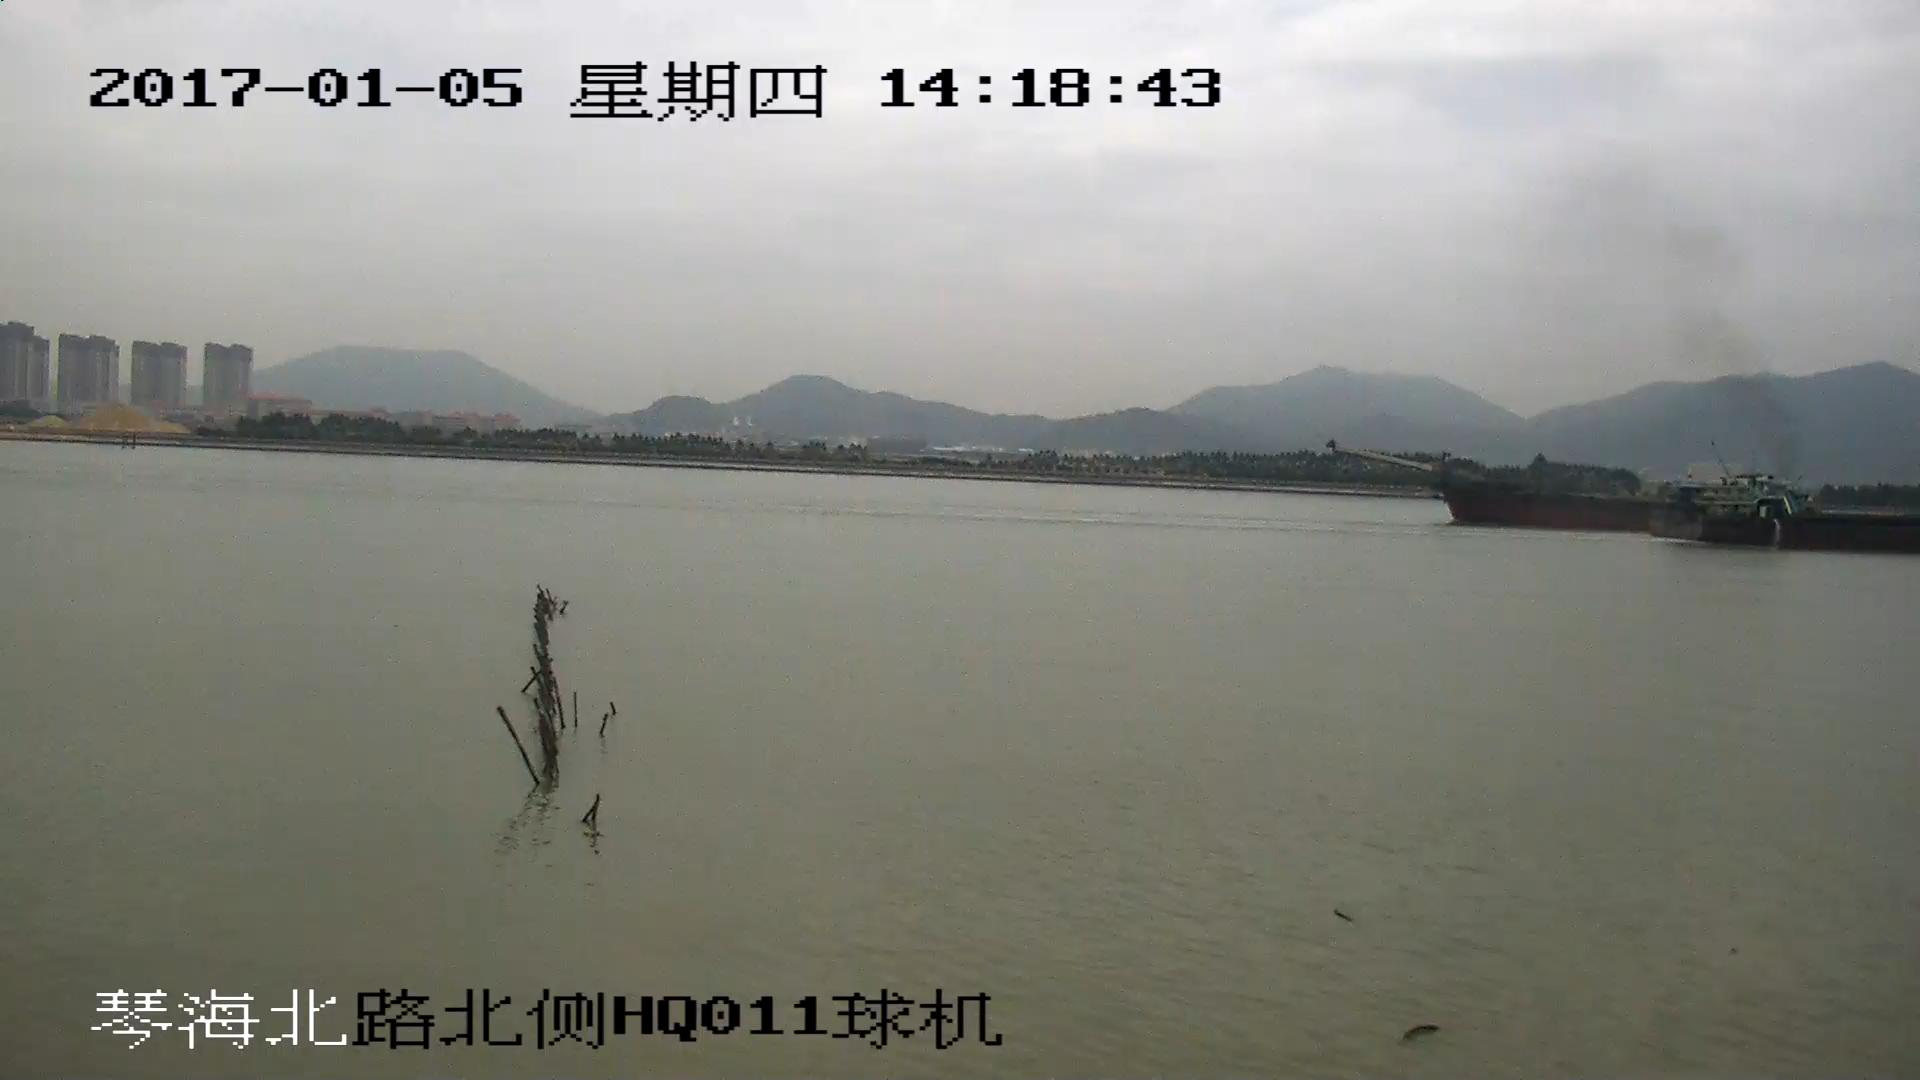bulk cargo carrier: (1326, 445, 1920, 549)
